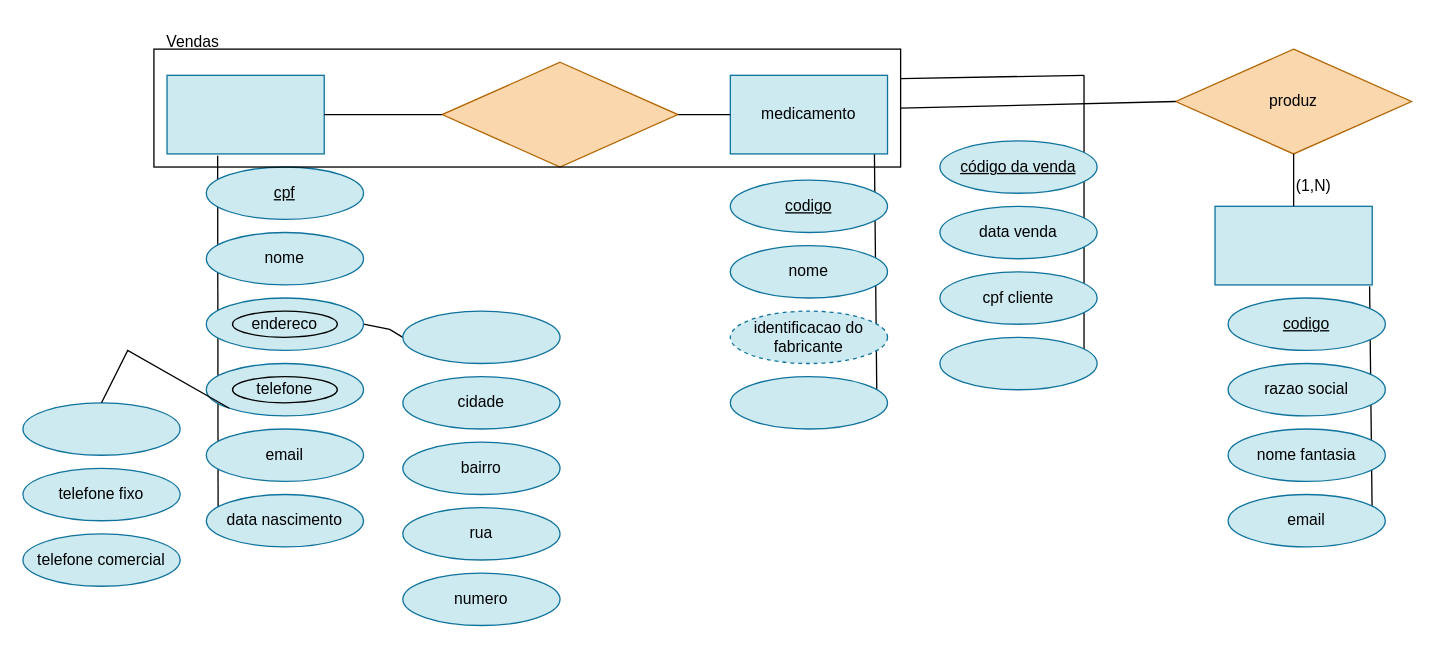
This 1434x648 diagram has some shape labels left out. Each missing label, with the centre of its shape:
"Cliente" goes at [245,114].
"compra" goes at [559,114].
"código venda" goes at [1018,363].
"data validade" goes at [808,402].
"Estado" goes at [481,337].
"fabricante" goes at [1293,245].
"telefone celular" goes at [101,428].
